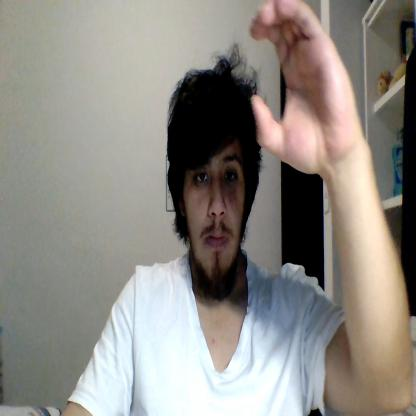C: (250, 0, 356, 175)
